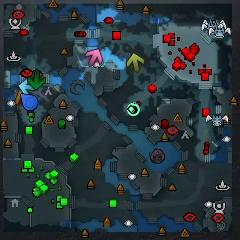p1: (21, 94, 38, 109)
p2Clone: (127, 103, 141, 116)
x1: (85, 49, 103, 67)
x2: (127, 54, 144, 71)
x3: (19, 79, 34, 95)
x4: (27, 69, 45, 89)
x5: (15, 90, 25, 103)
